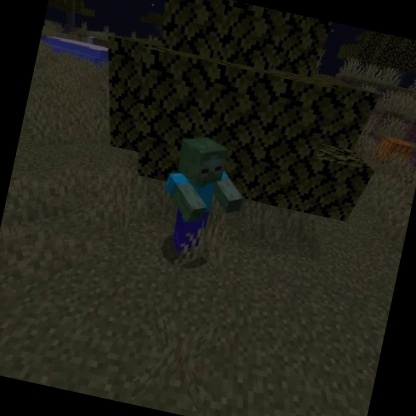zombie: (146, 127, 258, 275)
